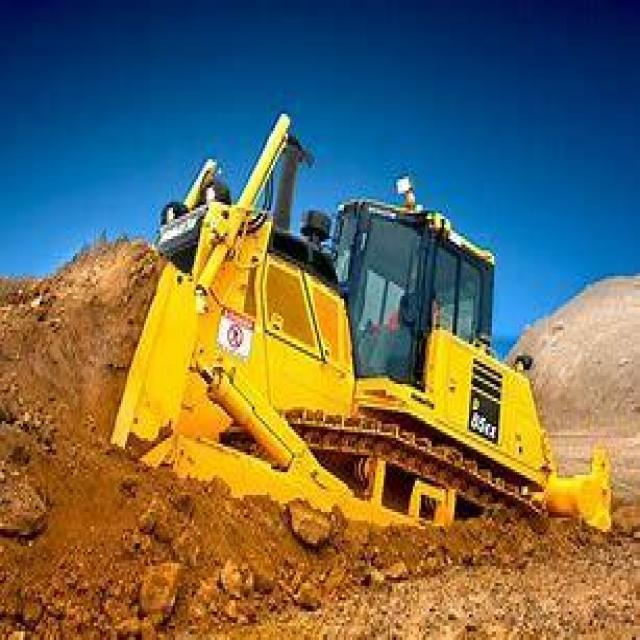Bulldozer: (29, 74, 638, 594)
